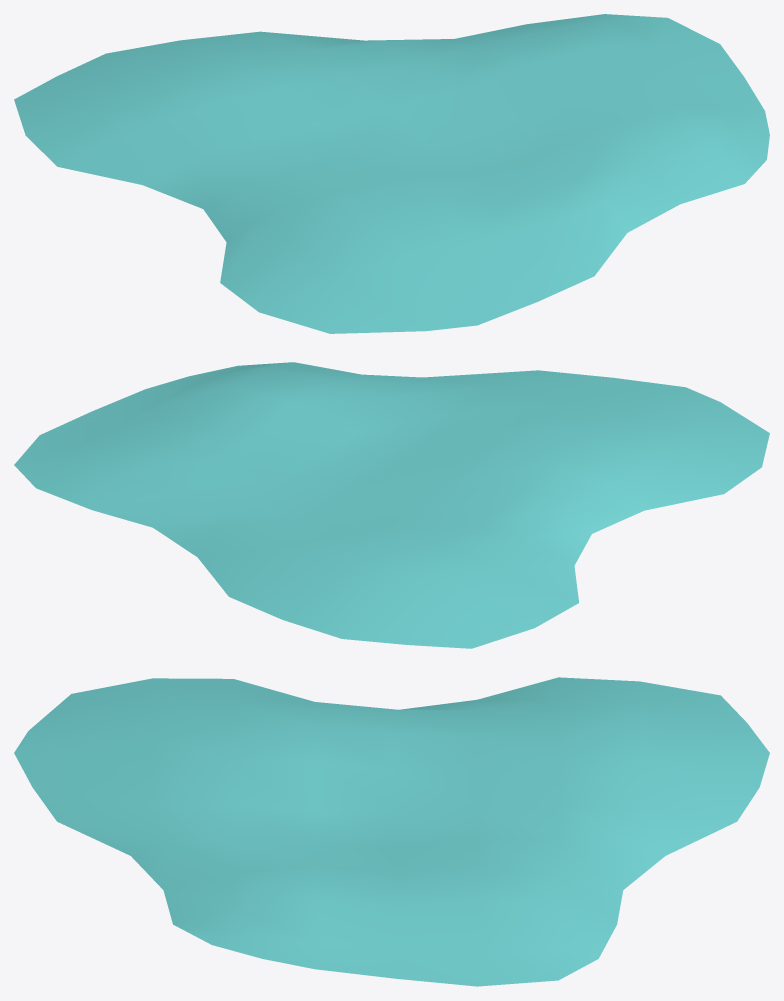
File: poca_agua.fbx
3 views of the same model, one above another, from view 1: azimuth 30°, elevation 25°; view 2: azimuth 150°, elevation 25°; view 3: azimuth 270°, elevation 25° (orthographic). The views are drawn at different scales.
Parts seen in each view (by area): view 1: Plane; view 2: Plane; view 3: Plane.
Part boxes in pixels (<box>): Plane: <box>14,14,769,333</box>; Plane: <box>14,362,769,648</box>; Plane: <box>14,677,769,986</box>.
Bounding box in the file's own units: 225 × 8.49 × 233.
